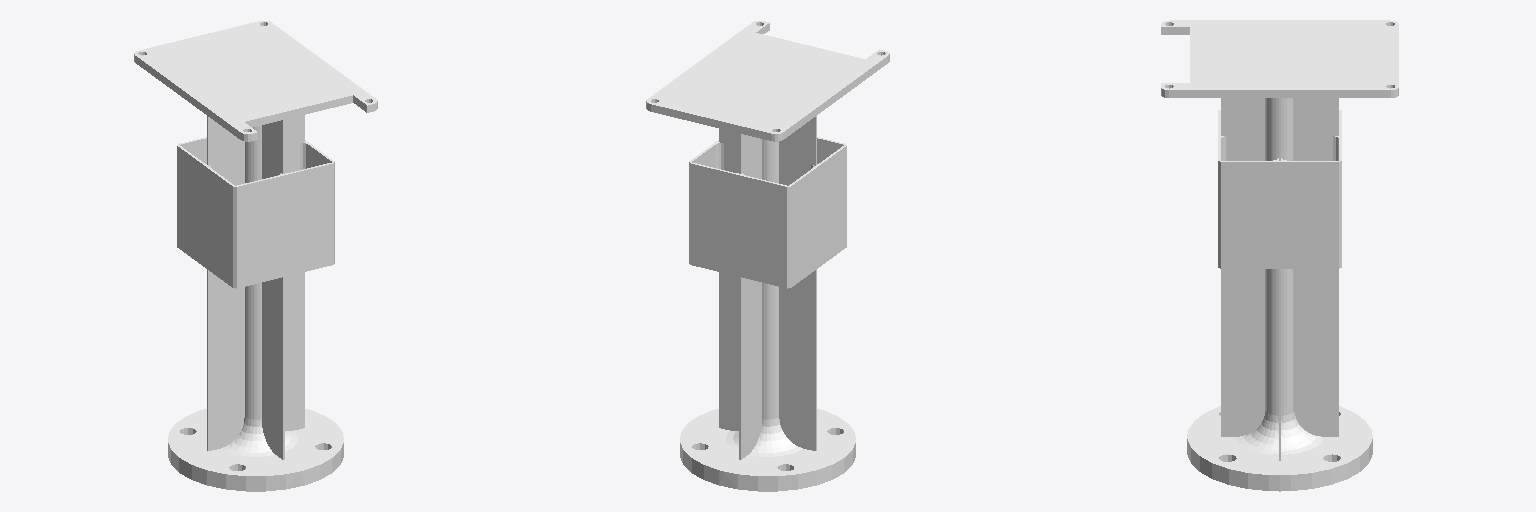
URDF robot description (bracket):
<?xml version="1.0" encoding="utf-8"?>
<!-- This URDF was automatically created by SolidWorks to URDF Exporter! Originally created by Stephen Brawner (brawner@gmail.com) 
     Commit Version: 1.6.0-4-g7f85cfe  Build Version: 1.6.7995.38578
     For more information, please see http://wiki.ros.org/sw_urdf_exporter -->
<robot
  name="bracket">
  <link
    name="bracket_base_link">
    <inertial>
      <origin
        xyz="6.56146448854258E-18 0.000826414697970227 0.0706784267775077"
        rpy="0 0 0" />
      <mass
        value="0.0579905724459555" />
      <inertia
        ixx="0.000211769100600281"
        ixy="-3.38369218983175E-21"
        ixz="-3.91554592312132E-21"
        iyy="0.00020950452248673"
        iyz="-3.65286260042818E-06"
        izz="2.30343305370622E-05" />
    </inertial>
    <visual>
      <origin
        xyz="0 0 0"
        rpy="0 0 0" />
      <geometry>
        <mesh
          filename="package://frcobot_tools/tools/magnetic_sensor_bracket/meshes/bracket_base_link.STL" />
      </geometry>
      <material
        name="">
        <color
          rgba="1 1 1 1" />
      </material>
    </visual>
    <collision>
      <origin
        xyz="0 0 0"
        rpy="0 0 0" />
      <geometry>
        <mesh
          filename="package://frcobot_tools/tools/magnetic_sensor_bracket/meshes/bracket_base_link.STL" />
      </geometry>
    </collision>
  </link>
  <link
    name="bracket_tcp_link">
    <inertial>
      <origin
        xyz="0.036673 0.024999 -0.077722"
        rpy="0 0 0" />
      <mass
        value="0.057991" />
      <inertia
        ixx="0.0002095"
        ixy="3.0512E-21"
        ixz="3.6529E-06"
        iyy="0.00021177"
        iyz="-4.4915E-21"
        izz="2.3034E-05" />
    </inertial>
    <visual>
      <origin
        xyz="0 0 0"
        rpy="0 0 0" />
      <geometry>
        <mesh
          filename="package://frcobot_tools/tools/magnetic_sensor_bracket/meshes/bracket_tcp_link.STL" />
      </geometry>
      <material
        name="">
        <color
          rgba="1 1 1 1" />
      </material>
    </visual>
    <collision>
      <origin
        xyz="0 0 0"
        rpy="0 0 0" />
      <geometry>
        <mesh
          filename="package://frcobot_tools/tools/magnetic_sensor_bracket/meshes/bracket_tcp_link.STL" />
      </geometry>
    </collision>
  </link>
  <joint
    name="bracket"
    type="fixed">
    <origin
      xyz="-0.024999 0.037499 0.1484"
      rpy="0 0 -1.5708" />
    <parent
      link="bracket_base_link" />
    <child
      link="bracket_tcp_link" />
    <axis
      xyz="0 0 0" />
  </joint>
</robot>

--- Facts derived from the render (not from the file) ---
The picture shows the robot from 3 angles, left to right: view 1: azimuth 30°, elevation 25°; view 2: azimuth 150°, elevation 25°; view 3: azimuth 270°, elevation 25°; orthographic projection.
Robot: bracket — 2 links, 1 joints (1 fixed); root link bracket_base_link; default pose: every joint at zero.
Links seen in each view (by area): view 1: bracket_tcp_link; view 2: bracket_tcp_link; view 3: bracket_tcp_link.
Link boxes in pixels (<box>): bracket_tcp_link: <box>134,21,377,491</box>; bracket_tcp_link: <box>646,21,889,491</box>; bracket_tcp_link: <box>1161,20,1398,491</box>.
Size in the robot's own frame: 0.063 by 0.081 by 0.1484 metres.
Meshes: 2 distinct files referenced, 1 mesh visuals loaded (1 binary STL); not drawn: 1 (reference not matched to a file when rendering).
